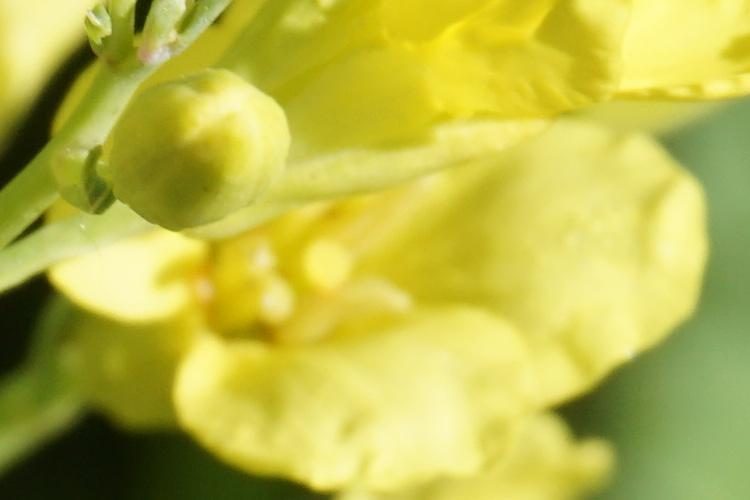bud: (91, 77, 292, 239)
yellow: (222, 120, 713, 488)
